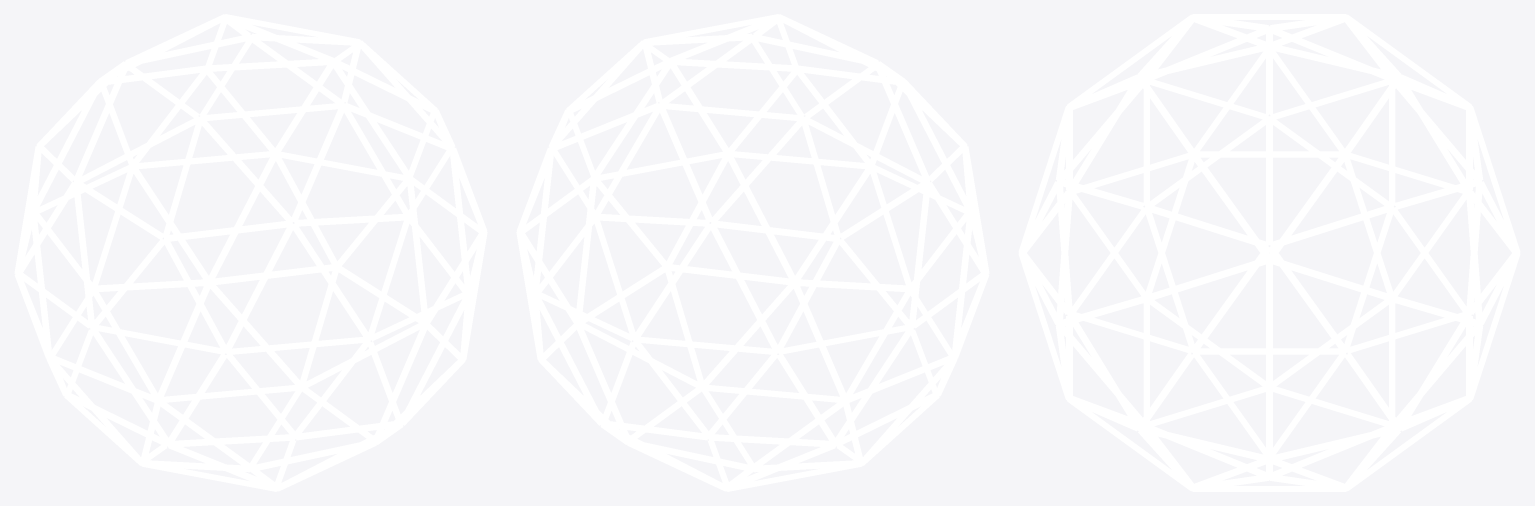
File: shield_bubble_neutral.glb
3 views of the same model, side by side, from view 1: azimuth 30°, elevation 25°; view 2: azimuth 150°, elevation 25°; view 3: azimuth 270°, elevation 25° (orthographic). The views are drawn at different scales.
Parts seen in each view (by area): view 1: shield_bubble_neutral; view 2: shield_bubble_neutral; view 3: shield_bubble_neutral.
Part boxes in pixels (<box>): shield_bubble_neutral: <box>14,14,487,491</box>; shield_bubble_neutral: <box>516,14,989,491</box>; shield_bubble_neutral: <box>1018,14,1520,491</box>.
Bounding box in the file's own units: 1.93 × 2.03 × 2.03.
1 material, 1 textured.
